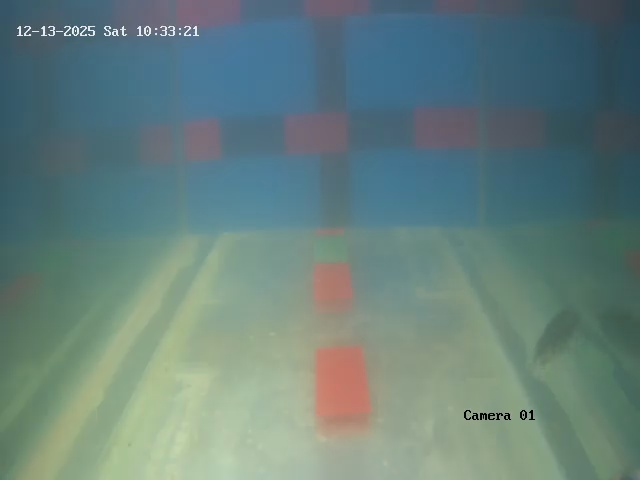fish: (531, 298, 592, 370)
